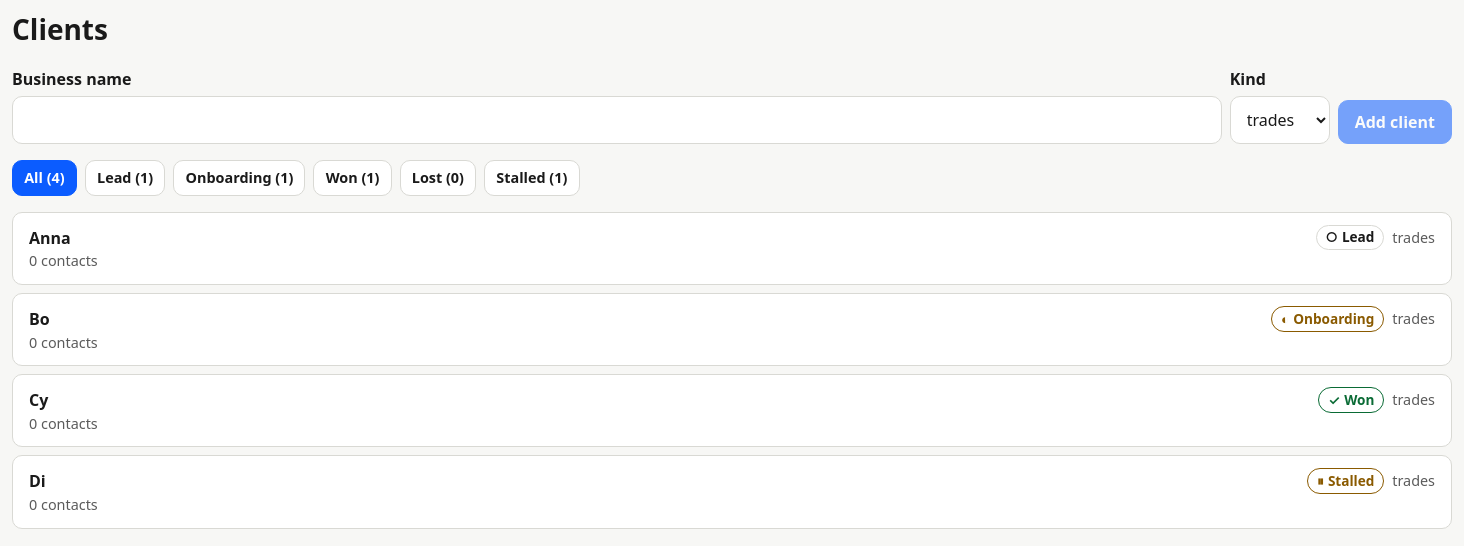
it: the client list by stage › every client shows its stage as a word, with a count per stage, and the filter narrows the list
This screenshot has width=1464, height=546.
Expected: the text "Anna" is shown, left=29, top=226, right=71, bottom=250
Expected: the button "Lost (0)" is shown, left=400, top=160, right=476, bottom=196
Step 1. Click the button "Stalled (1)" → (532, 178), box left=484, top=160, right=580, bottom=196
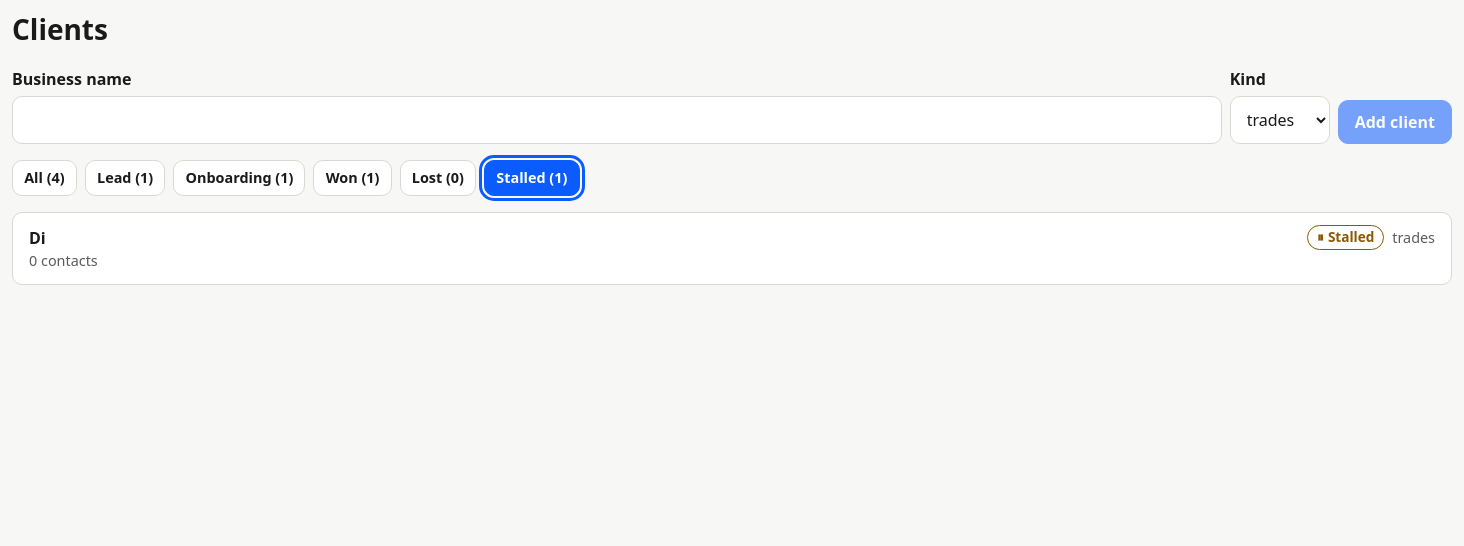
Expected: the text "Di" is shown, left=29, top=226, right=46, bottom=250
Expected: the link "Anna" is gone
Step 2. Click the button "Lost (0)" → (438, 178), box left=400, top=160, right=476, bottom=196
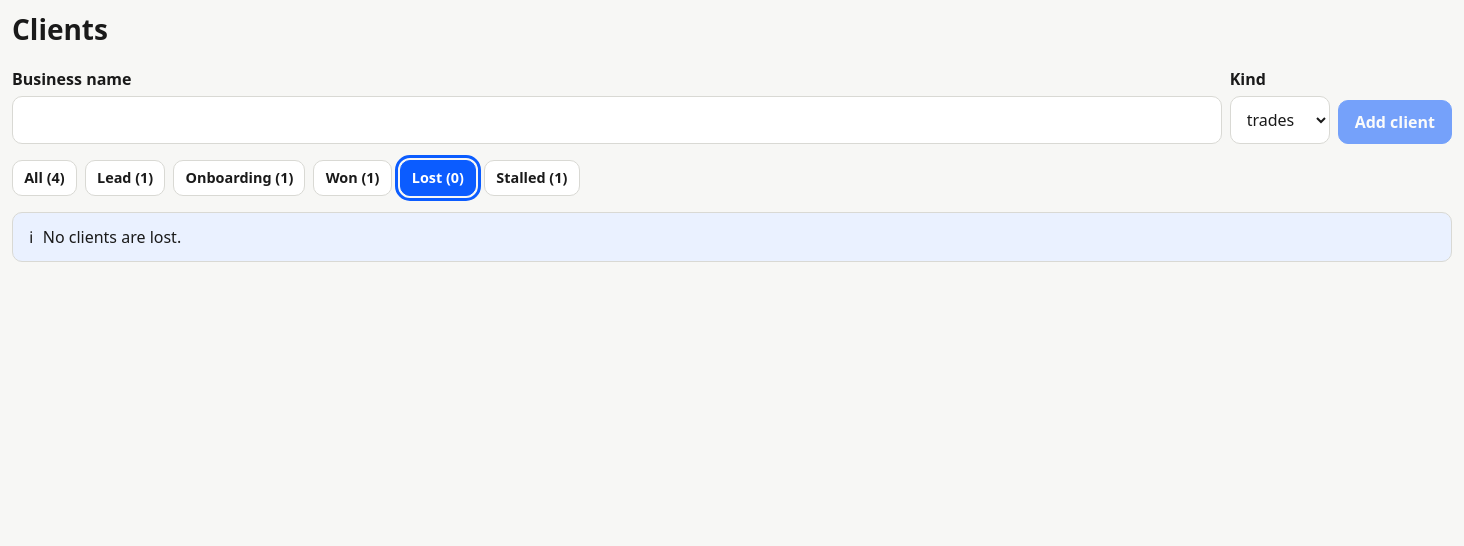
Expected: the text "No clients are lost." is shown, left=43, top=225, right=181, bottom=249
